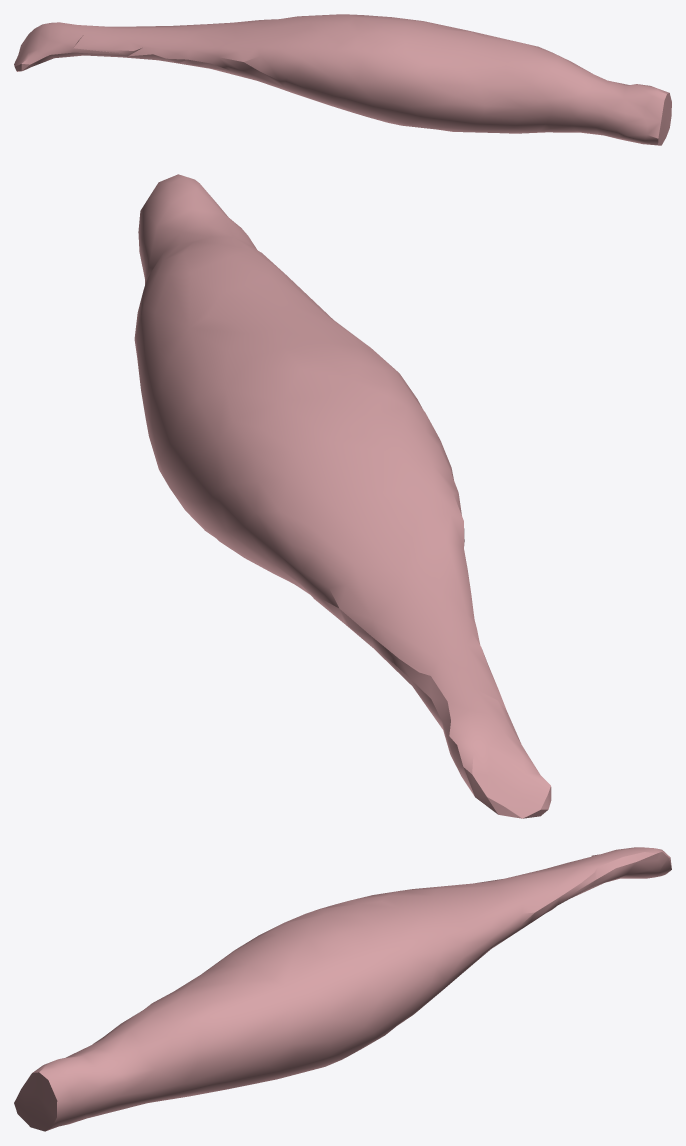
Rendered from fma47244_mm1725.glb.
The picture shows the model from 3 angles, top to bottom: view 1: azimuth 30°, elevation 25°; view 2: azimuth 150°, elevation 25°; view 3: azimuth 270°, elevation 25°; orthographic projection. The views are drawn at different scales.
Parts seen in each view (by area): view 1: FMA47244_MM1725; view 2: FMA47244_MM1725; view 3: FMA47244_MM1725.
Part boxes in pixels (x1,y1,x2,y2): FMA47244_MM1725: [14, 14, 671, 145]; FMA47244_MM1725: [134, 174, 551, 818]; FMA47244_MM1725: [14, 847, 671, 1131].
Bounding box in the file's own units: 0.0603 × 0.0124 × 0.0622.
